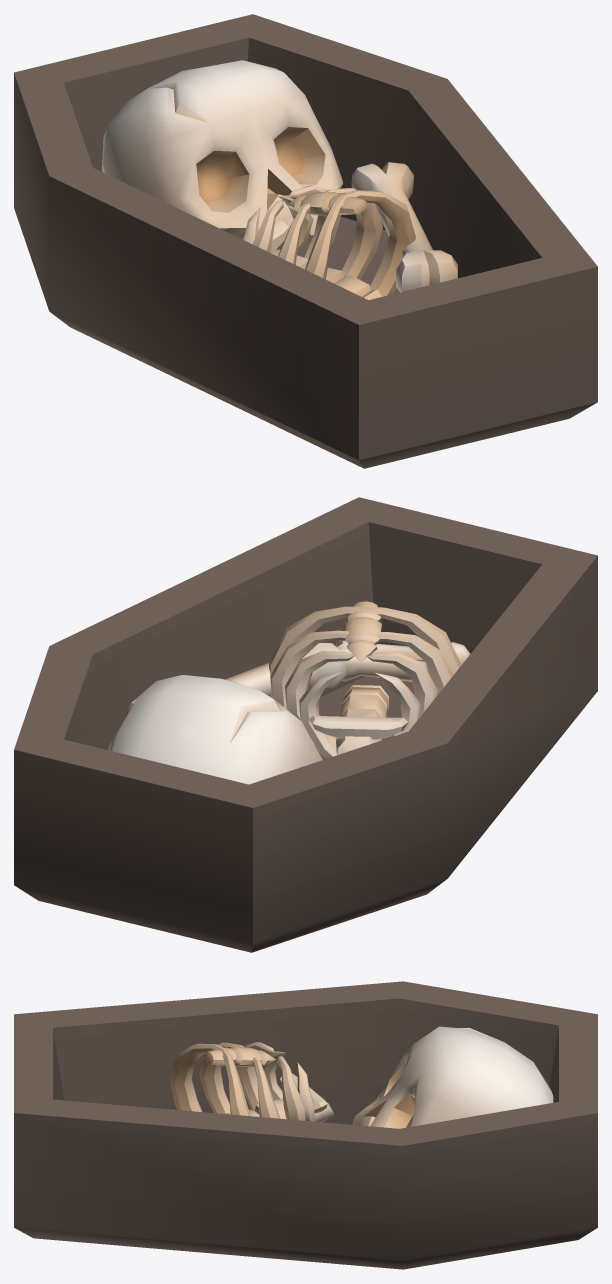
File: hb_coffin_decorated.glb
3 renders of one model, top to bottom at view 1: azimuth 30°, elevation 25°; view 2: azimuth 150°, elevation 25°; view 3: azimuth 270°, elevation 25°, orthographic. The views are drawn at different scales.
Parts seen in each view (by area): view 1: coffin_decorated; view 2: coffin_decorated; view 3: coffin_decorated.
Part boxes in pixels (x1=…): coffin_decorated: x1=14, y1=14, x2=597, y2=468; coffin_decorated: x1=14, y1=497, x2=597, y2=952; coffin_decorated: x1=14, y1=981, x2=597, y2=1269.
Size of the model in its own units: 1.33 by 0.6017 by 2.
1 material, 1 textured.
